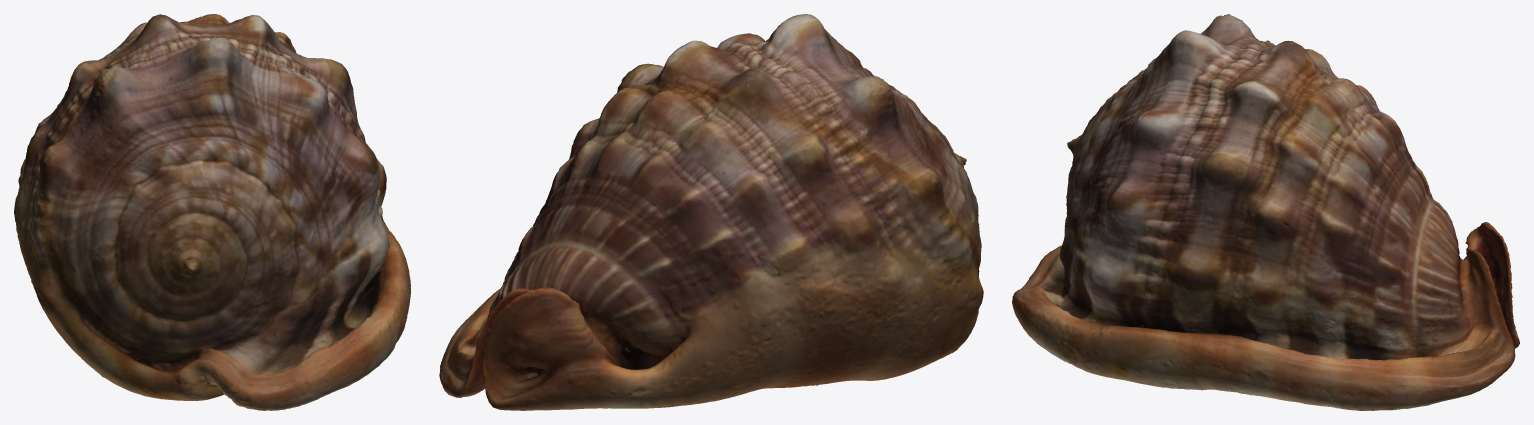
The picture shows the model from 3 angles, left to right: view 1: azimuth 30°, elevation 25°; view 2: azimuth 150°, elevation 25°; view 3: azimuth 270°, elevation 25°; orthographic projection. The views are drawn at different scales.
Parts seen in each view (by area): view 1: orientacao; view 2: orientacao; view 3: orientacao.
Part boxes in pixels (bbox=[...]): orientacao: bbox=[14, 14, 410, 410]; orientacao: bbox=[439, 14, 983, 410]; orientacao: bbox=[1012, 14, 1519, 410].
Bounding box in the file's own units: 4160 × 3243 × 4915.
Materials: 1 (1 with a texture image).
